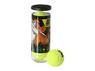tennis ball: (46, 49, 65, 67)
